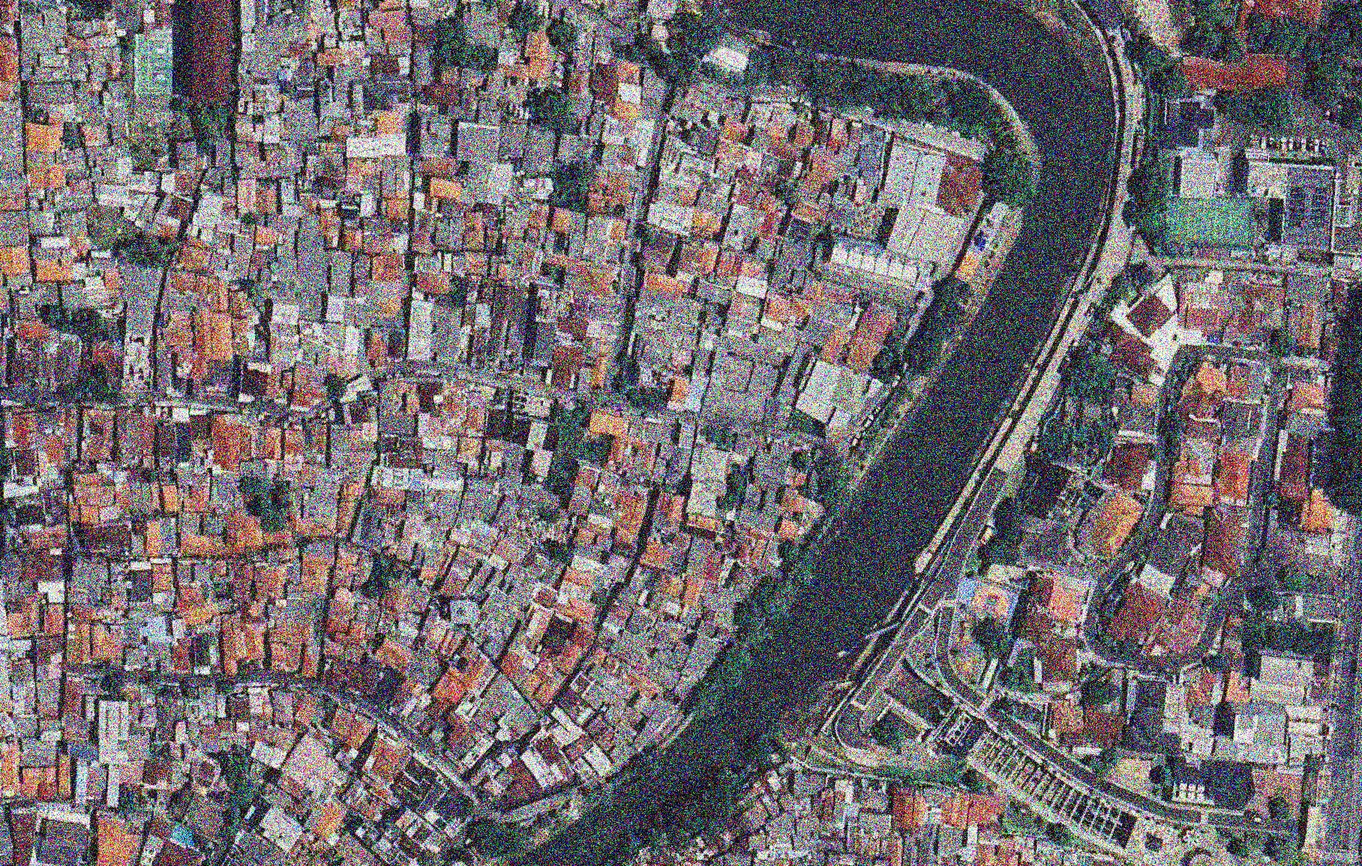building: (929, 698, 1150, 857), (1112, 269, 1214, 370), (1135, 502, 1208, 593), (1071, 480, 1149, 564), (1096, 323, 1178, 390), (655, 136, 741, 199), (1122, 668, 1184, 752), (1280, 155, 1336, 248), (1167, 755, 1258, 812), (885, 197, 962, 264), (825, 232, 922, 285), (1171, 357, 1240, 431), (1105, 576, 1173, 650), (1099, 428, 1170, 498), (1013, 518, 1097, 577), (188, 0, 235, 104), (374, 801, 453, 862), (1263, 522, 1347, 579), (880, 137, 948, 207), (1146, 597, 1209, 668), (29, 800, 94, 866), (349, 724, 414, 790), (1201, 501, 1251, 580), (114, 263, 163, 338), (384, 752, 445, 812), (1017, 454, 1072, 519), (246, 797, 306, 852), (1179, 280, 1231, 343), (370, 567, 418, 634), (1113, 368, 1161, 434), (936, 154, 986, 217), (459, 279, 494, 369), (416, 606, 472, 662), (1158, 97, 1216, 150), (1223, 701, 1291, 746), (319, 655, 385, 701), (277, 729, 330, 786), (1176, 667, 1226, 727), (480, 577, 534, 631), (319, 699, 374, 752), (173, 788, 229, 840), (772, 337, 816, 403), (719, 329, 789, 369), (296, 232, 328, 319), (453, 156, 497, 219), (684, 78, 748, 121), (91, 810, 141, 865), (298, 465, 343, 526), (496, 695, 545, 751), (579, 656, 638, 702), (1238, 281, 1288, 335), (339, 778, 393, 828), (702, 384, 767, 425), (17, 3, 68, 55), (444, 638, 494, 691), (461, 611, 514, 661), (503, 285, 536, 365), (626, 333, 693, 372), (830, 367, 882, 417), (439, 546, 483, 603), (15, 338, 59, 395), (302, 795, 352, 845), (1172, 436, 1221, 487), (511, 600, 557, 654), (120, 408, 162, 467), (721, 201, 767, 254), (188, 354, 243, 398), (1214, 446, 1255, 504), (794, 391, 854, 430), (450, 511, 502, 556), (95, 696, 129, 764), (537, 704, 585, 752), (1035, 639, 1081, 689), (38, 338, 82, 390), (123, 192, 171, 239), (337, 374, 380, 426), (1178, 55, 1240, 91), (134, 812, 175, 866), (1220, 400, 1266, 448), (1241, 154, 1289, 200), (325, 57, 371, 105), (406, 771, 451, 820), (349, 501, 391, 553), (1272, 591, 1338, 624), (332, 473, 365, 539), (563, 460, 601, 517), (1047, 576, 1093, 623), (1173, 151, 1221, 196), (799, 354, 844, 402), (150, 830, 211, 865), (77, 406, 115, 462), (234, 677, 280, 723), (494, 641, 539, 688), (239, 25, 305, 57), (506, 414, 563, 451), (560, 261, 618, 297), (253, 550, 293, 602), (232, 827, 285, 866), (619, 432, 662, 480), (526, 668, 569, 716), (682, 635, 724, 684), (6, 803, 39, 865), (35, 638, 63, 711), (1254, 652, 1314, 686), (1274, 431, 1314, 482), (588, 470, 624, 526), (463, 559, 505, 607), (612, 480, 650, 533), (209, 411, 242, 472), (352, 76, 411, 110), (404, 646, 448, 691), (430, 303, 463, 363), (266, 136, 310, 181), (196, 310, 234, 362), (372, 633, 419, 675), (518, 319, 556, 370), (478, 671, 522, 715), (856, 299, 899, 344), (690, 436, 731, 483), (365, 828, 415, 866), (738, 486, 781, 530), (184, 751, 227, 795), (1015, 605, 1057, 650), (1083, 702, 1123, 749), (686, 538, 726, 585), (6, 282, 58, 318), (71, 40, 119, 79), (406, 297, 435, 361), (344, 131, 408, 160), (1308, 489, 1351, 532), (419, 487, 462, 530), (459, 483, 504, 524), (522, 123, 558, 174), (763, 290, 812, 327), (456, 120, 500, 161), (1240, 53, 1290, 89), (366, 665, 406, 710), (218, 613, 246, 677), (546, 343, 584, 390), (583, 293, 621, 340), (0, 449, 38, 496), (1047, 697, 1084, 745), (75, 522, 132, 553), (429, 785, 471, 827), (746, 452, 789, 493), (519, 747, 559, 791), (600, 115, 655, 147), (698, 581, 748, 616), (114, 408, 144, 466), (741, 779, 781, 822), (462, 2, 501, 46), (581, 212, 614, 264), (646, 198, 695, 233), (640, 228, 678, 273), (38, 431, 68, 488), (589, 172, 635, 209), (1285, 380, 1332, 416), (0, 401, 36, 448), (1228, 361, 1269, 402), (196, 135, 237, 176), (388, 608, 430, 648), (711, 351, 754, 390), (632, 67, 671, 110), (121, 337, 152, 391), (854, 126, 888, 175), (18, 51, 70, 83), (63, 604, 91, 663), (627, 410, 677, 443), (80, 125, 135, 155), (844, 334, 885, 374), (555, 688, 596, 728), (723, 292, 762, 334), (184, 684, 223, 726), (78, 269, 116, 312), (599, 139, 650, 171), (297, 319, 345, 353), (1248, 677, 1306, 705), (432, 708, 472, 748), (189, 188, 226, 231), (756, 318, 800, 354), (92, 463, 128, 507), (367, 7, 411, 43), (1086, 0, 1130, 36), (438, 383, 469, 434), (392, 512, 423, 563), (770, 261, 815, 296), (652, 488, 687, 533), (467, 766, 507, 805), (686, 112, 724, 153), (506, 759, 544, 800), (417, 113, 453, 156), (810, 293, 855, 327), (270, 591, 321, 621), (527, 728, 565, 768), (383, 686, 421, 726), (686, 480, 727, 517), (147, 476, 183, 518), (738, 525, 773, 568), (207, 246, 250, 281), (334, 293, 377, 328), (553, 591, 600, 623), (236, 360, 270, 404), (267, 247, 301, 291), (672, 236, 705, 281), (250, 0, 307, 26), (801, 156, 842, 192), (258, 363, 294, 404), (331, 830, 372, 866), (71, 761, 106, 803), (19, 549, 63, 582), (642, 656, 683, 691), (246, 735, 287, 770), (207, 469, 241, 511), (1167, 483, 1213, 514), (202, 724, 248, 755), (1220, 614, 1245, 671), (50, 752, 79, 801), (233, 86, 282, 115), (170, 241, 213, 274), (703, 42, 750, 72), (712, 520, 749, 558), (729, 796, 765, 835), (371, 463, 423, 490), (314, 348, 359, 379), (153, 188, 194, 222), (543, 611, 576, 653), (380, 434, 422, 467), (0, 347, 33, 389), (238, 47, 280, 80), (413, 153, 462, 181), (189, 267, 226, 304), (597, 554, 633, 592), (264, 299, 300, 337), (299, 771, 338, 806), (762, 150, 806, 181), (525, 445, 556, 489), (968, 792, 1008, 826), (589, 404, 630, 437), (0, 139, 26, 191), (10, 659, 35, 713), (142, 756, 184, 788), (20, 523, 68, 551), (914, 783, 943, 829), (162, 638, 199, 674), (156, 357, 191, 395), (937, 825, 976, 859), (764, 810, 803, 844), (1256, 0, 1319, 21), (730, 166, 763, 206), (154, 696, 184, 740), (822, 323, 854, 364), (683, 510, 724, 542), (589, 62, 621, 103), (68, 556, 109, 588), (589, 338, 612, 395), (426, 539, 457, 581), (824, 193, 860, 229), (461, 733, 497, 769), (296, 559, 332, 595), (550, 638, 585, 675), (266, 639, 303, 674), (156, 311, 193, 346), (346, 816, 383, 851), (409, 536, 443, 574), (1297, 302, 1325, 348), (289, 510, 335, 538), (504, 563, 543, 596), (18, 767, 57, 800), (530, 285, 563, 324), (1027, 570, 1059, 610), (81, 342, 121, 374), (485, 161, 514, 205), (234, 66, 285, 91), (178, 533, 227, 559), (497, 117, 528, 158), (268, 617, 315, 644), (638, 536, 674, 571), (430, 673, 466, 708), (650, 618, 687, 652), (309, 750, 346, 784), (169, 136, 202, 174), (643, 271, 695, 295), (627, 669, 666, 701), (232, 140, 264, 179), (34, 406, 77, 435), (324, 423, 351, 469), (279, 842, 333, 865), (18, 737, 58, 768), (23, 121, 63, 152), (227, 559, 255, 603), (90, 621, 120, 662), (767, 745, 802, 780), (709, 815, 745, 849), (321, 116, 355, 152), (37, 489, 70, 526), (631, 305, 669, 337), (126, 559, 153, 604), (0, 744, 22, 799), (230, 315, 258, 358), (1275, 494, 1310, 528), (70, 468, 104, 503), (316, 102, 351, 136), (174, 438, 210, 471), (281, 424, 303, 478), (192, 308, 214, 362), (22, 99, 76, 121), (748, 361, 780, 398), (470, 660, 502, 697), (346, 278, 405, 298), (1178, 725, 1217, 755), (277, 91, 316, 121), (89, 153, 132, 180), (757, 765, 790, 800), (800, 316, 835, 349), (666, 310, 699, 345), (567, 616, 600, 651), (490, 495, 522, 531), (302, 418, 327, 464), (327, 249, 352, 295), (335, 617, 372, 648), (115, 731, 152, 762), (483, 255, 520, 286), (130, 683, 156, 727), (667, 95, 705, 125), (10, 598, 40, 636), (177, 601, 219, 628), (315, 207, 342, 249), (1064, 396, 1103, 425), (494, 31, 519, 76), (761, 397, 794, 431), (472, 701, 506, 734), (632, 363, 672, 391), (452, 689, 484, 724), (447, 86, 479, 121), (684, 372, 710, 415), (119, 187, 150, 223), (74, 103, 127, 124), (380, 160, 410, 197), (692, 278, 733, 305), (603, 217, 627, 263), (150, 346, 173, 394), (26, 81, 74, 104), (252, 209, 300, 232), (776, 238, 814, 267), (584, 681, 617, 714), (327, 587, 360, 620), (520, 546, 553, 579), (625, 607, 659, 639), (350, 598, 384, 630), (108, 0, 143, 31), (158, 288, 205, 311), (405, 581, 435, 617), (292, 691, 319, 731), (490, 282, 517, 322), (157, 170, 200, 195), (772, 131, 809, 160), (1224, 269, 1250, 310), (667, 444, 693, 485), (34, 256, 75, 282), (266, 334, 298, 367), (570, 543, 604, 574), (147, 211, 181, 242), (296, 538, 335, 565), (492, 537, 527, 567), (371, 107, 406, 137), (238, 512, 264, 552), (305, 154, 345, 180), (942, 789, 970, 826), (814, 277, 851, 305), (366, 326, 389, 371), (1281, 411, 1324, 435), (189, 632, 213, 675), (26, 188, 69, 212), (1288, 276, 1326, 303), (241, 621, 266, 662), (269, 722, 300, 755), (140, 0, 173, 31), (835, 172, 869, 202), (1184, 415, 1223, 441), (638, 286, 680, 310), (464, 209, 489, 249), (270, 687, 295, 727), (695, 190, 732, 217), (289, 383, 326, 410), (731, 563, 762, 595), (346, 442, 377, 474), (720, 117, 753, 147), (626, 559, 656, 592), (238, 417, 261, 460), (745, 96, 774, 130), (610, 94, 644, 123), (834, 778, 858, 819), (60, 675, 84, 716), (714, 137, 749, 165), (148, 558, 176, 593), (0, 210, 28, 245), (370, 252, 405, 280), (26, 163, 65, 188), (665, 374, 691, 411), (559, 575, 596, 601), (245, 720, 282, 746), (55, 186, 92, 212), (592, 720, 623, 751), (652, 443, 676, 483), (563, 732, 595, 762), (793, 769, 826, 798), (690, 209, 723, 238), (211, 203, 240, 236), (502, 201, 530, 235), (182, 220, 216, 248), (1328, 276, 1353, 314), (608, 640, 643, 667), (423, 435, 458, 462), (118, 679, 142, 718), (259, 783, 295, 809), (584, 745, 614, 776), (101, 558, 131, 589), (195, 509, 226, 539), (860, 779, 889, 811), (831, 144, 860, 176), (496, 466, 525, 498), (567, 69, 596, 101), (555, 129, 580, 166), (893, 784, 914, 828), (779, 485, 812, 513), (177, 484, 210, 512), (755, 189, 789, 216), (246, 249, 273, 283), (732, 255, 770, 279), (297, 641, 321, 679), (677, 295, 720, 316), (261, 417, 282, 460), (1235, 0, 1253, 50), (785, 213, 815, 243), (768, 103, 800, 131), (602, 694, 630, 726), (174, 583, 206, 611), (347, 421, 379, 449), (501, 527, 534, 554), (142, 638, 169, 671), (92, 181, 129, 205), (343, 171, 380, 195), (735, 272, 769, 298), (486, 318, 507, 360), (378, 410, 416, 433), (609, 731, 638, 761), (142, 614, 172, 643), (0, 245, 30, 274), (57, 209, 88, 237), (1226, 671, 1253, 703), (1322, 312, 1340, 360), (793, 198, 829, 222), (333, 541, 360, 573), (558, 290, 590, 317), (76, 121, 108, 148), (414, 43, 435, 84), (521, 244, 543, 283), (0, 101, 22, 140), (40, 603, 65, 637), (597, 0, 631, 25), (679, 575, 706, 606), (827, 115, 849, 153), (280, 113, 312, 139), (484, 407, 509, 440), (165, 341, 198, 366), (253, 180, 278, 213), (290, 58, 315, 91), (173, 421, 192, 464), (416, 269, 450, 293), (607, 434, 629, 471), (147, 584, 176, 612), (557, 315, 588, 341), (60, 715, 91, 741), (335, 38, 366, 64), (0, 579, 35, 602), (124, 598, 156, 623), (466, 392, 485, 434), (156, 422, 175, 464), (418, 383, 442, 416), (67, 582, 103, 604), (13, 502, 46, 526), (569, 670, 597, 698), (569, 756, 597, 784), (58, 281, 86, 309), (429, 177, 463, 200), (541, 557, 567, 587), (371, 54, 410, 74), (26, 209, 56, 235), (370, 485, 407, 506), (249, 565, 270, 602), (448, 597, 479, 622), (102, 764, 120, 807), (260, 142, 282, 177), (621, 630, 653, 654), (609, 539, 641, 563), (590, 34, 614, 66), (0, 806, 13, 865), (479, 90, 502, 123), (292, 363, 325, 386), (796, 185, 832, 206), (672, 671, 699, 699), (502, 781, 530, 808), (122, 171, 158, 192), (517, 671, 543, 700), (120, 642, 146, 671), (95, 498, 124, 524), (697, 241, 722, 271), (564, 565, 598, 587), (53, 146, 87, 168), (235, 178, 257, 212), (158, 517, 177, 556), (810, 110, 830, 147), (424, 473, 465, 491), (16, 319, 48, 342), (277, 178, 298, 213), (0, 650, 12, 711), (494, 742, 521, 769), (612, 718, 640, 744), (485, 550, 513, 576), (480, 437, 506, 465), (322, 294, 348, 322), (717, 554, 739, 587), (759, 211, 783, 241), (579, 517, 615, 537), (380, 196, 410, 220), (426, 84, 460, 105), (812, 785, 834, 817), (917, 828, 936, 865), (749, 127, 776, 153), (584, 712, 610, 739), (533, 583, 560, 609), (219, 847, 258, 865), (643, 0, 678, 20), (632, 724, 657, 752), (402, 705, 427, 733), (220, 507, 248, 532), (63, 160, 91, 185), (345, 156, 380, 176), (669, 642, 693, 671), (8, 713, 37, 737), (101, 267, 122, 300), (528, 199, 551, 229), (69, 501, 99, 524), (188, 413, 211, 443), (272, 228, 295, 258), (387, 328, 406, 364), (129, 519, 147, 557), (523, 177, 554, 199), (166, 270, 197, 292), (1037, 837, 1063, 863), (550, 757, 576, 783), (645, 707, 670, 734), (525, 31, 550, 58), (715, 247, 739, 275), (679, 599, 703, 627), (402, 675, 430, 699), (117, 760, 145, 784), (221, 526, 245, 554), (72, 83, 100, 107), (274, 776, 306, 797), (997, 835, 1020, 864), (99, 586, 128, 609), (128, 480, 148, 513), (619, 705, 645, 730), (253, 226, 279, 251), (659, 573, 686, 597), (173, 466, 209, 484), (568, 366, 592, 393), (30, 241, 66, 259), (229, 229, 253, 256), (194, 167, 221, 191), (793, 120, 816, 148), (666, 546, 689, 574), (497, 238, 525, 261), (104, 79, 127, 107), (341, 323, 361, 355), (875, 189, 904, 211), (228, 693, 250, 722), (0, 550, 22, 579), (353, 555, 374, 585), (229, 288, 250, 318), (846, 822, 865, 855), (0, 50, 19, 83), (0, 0, 19, 33), (632, 694, 657, 719), (35, 717, 60, 742), (566, 46, 592, 70), (463, 251, 490, 274), (337, 10, 360, 37), (67, 740, 98, 760), (26, 146, 57, 166), (550, 205, 572, 233), (37, 581, 65, 603), (208, 282, 229, 311), (87, 606, 125, 622), (144, 518, 160, 556), (774, 516, 799, 540), (677, 418, 697, 448), (452, 735, 476, 760), (443, 251, 467, 276), (241, 601, 266, 625), (541, 253, 581, 268), (652, 693, 678, 716), (456, 438, 482, 461), (176, 511, 202, 534), (1286, 306, 1303, 341), (448, 216, 466, 249), (460, 67, 487, 89), (465, 474, 496, 493), (362, 234, 393, 253), (1288, 719, 1320, 737), (618, 60, 642, 84), (339, 228, 363, 252), (743, 148, 766, 173), (654, 181, 679, 204), (618, 583, 643, 606), (297, 209, 320, 234), (297, 21, 320, 46), (173, 558, 195, 584), (427, 463, 460, 480), (240, 0, 257, 33), (1191, 244, 1231, 258), (795, 815, 823, 835), (239, 458, 267, 478), (67, 35, 102, 51), (1280, 481, 1311, 499), (86, 254, 117, 272), (262, 113, 280, 144), (753, 236, 777, 259), (532, 659, 556, 682), (316, 185, 339, 209), (1288, 729, 1307, 758), (262, 529, 291, 548), (571, 526, 596, 548), (337, 202, 359, 227), (769, 441, 795, 462), (599, 621, 625, 642), (412, 228, 433, 254), (351, 253, 372, 279), (285, 556, 301, 590), (692, 346, 712, 373), (86, 59, 106, 86), (414, 254, 442, 273), (433, 216, 452, 244), (697, 328, 720, 351), (735, 434, 758, 457), (587, 645, 611, 667), (0, 273, 33, 289), (605, 609, 630, 630), (617, 83, 642, 104), (189, 560, 210, 585), (96, 45, 122, 65), (365, 29, 385, 55), (379, 379, 395, 411), (0, 636, 32, 652), (391, 221, 407, 253), (676, 185, 699, 207), (647, 592, 669, 615), (414, 713, 436, 736), (120, 620, 141, 644), (1286, 706, 1319, 721), (859, 812, 892, 827), (821, 818, 847, 837), (495, 0, 514, 26), (427, 699, 449, 721), (729, 836, 752, 857), (32, 235, 69, 248), (1020, 835, 1036, 865), (973, 845, 997, 865), (610, 599, 634, 619), (208, 558, 228, 582), (363, 217, 391, 234), (823, 425, 848, 444), (325, 613, 350, 632), (614, 527, 639, 546), (414, 25, 439, 44), (0, 192, 26, 210), (295, 193, 321, 211), (761, 172, 783, 193), (702, 311, 724, 332), (602, 653, 623, 675), (414, 210, 435, 232), (650, 22, 673, 42), (978, 823, 1002, 842), (694, 834, 713, 858), (593, 534, 617, 553), (316, 47, 340, 66), (818, 834, 846, 850), (847, 120, 863, 148), (405, 382, 419, 414), (495, 768, 516, 789), (332, 569, 353, 590), (593, 630, 615, 650), (528, 57, 548, 79), (404, 491, 424, 513), (67, 234, 87, 256), (234, 116, 254, 138), (323, 640, 346, 659), (1332, 255, 1361, 270), (1064, 849, 1093, 864), (483, 227, 501, 251), (569, 210, 587, 234), (376, 298, 403, 314), (358, 193, 376, 217), (904, 832, 917, 865), (184, 717, 201, 742), (654, 645, 675, 665), (440, 65, 461, 85), (215, 715, 235, 736), (214, 689, 228, 719), (209, 229, 230, 249), (37, 701, 59, 720), (867, 827, 883, 853), (767, 833, 793, 849), (793, 833, 817, 850), (368, 313, 402, 325), (665, 597, 685, 617), (168, 615, 184, 640), (284, 41, 309, 57), (165, 740, 184, 761), (97, 23, 116, 44), (525, 225, 547, 243), (71, 19, 94, 36), (777, 792, 797, 811), (714, 624, 734, 643), (1231, 246, 1258, 260), (702, 832, 720, 853), (698, 619, 719, 637), (725, 851, 750, 866), (890, 830, 901, 864), (345, 646, 368, 662), (171, 720, 187, 743), (0, 711, 14, 737), (748, 833, 768, 851), (616, 662, 634, 682), (608, 746, 626, 766), (635, 653, 652, 674), (0, 34, 17, 55), (395, 378, 406, 410), (1280, 244, 1299, 262), (372, 0, 406, 10), (1178, 268, 1206, 280), (796, 852, 824, 864), (483, 203, 504, 219), (0, 79, 15, 101), (1264, 242, 1282, 260), (180, 743, 199, 760), (262, 460, 279, 479), (796, 795, 812, 815), (779, 846, 808, 857), (385, 43, 411, 55), (674, 533, 692, 550), (513, 62, 530, 80), (792, 470, 808, 489), (423, 194, 439, 213), (201, 724, 220, 740), (411, 191, 426, 211), (71, 260, 86, 280), (428, 727, 445, 744), (469, 726, 487, 742), (439, 197, 455, 215), (418, 413, 430, 436), (333, 0, 359, 10), (319, 84, 329, 109), (638, 589, 651, 607), (430, 416, 441, 437), (71, 62, 87, 76), (758, 847, 776, 859), (408, 0, 429, 10), (1208, 267, 1224, 280), (235, 133, 258, 142), (706, 109, 721, 122), (704, 608, 717, 623), (856, 854, 873, 865), (754, 858, 777, 865), (840, 854, 856, 864), (71, 71, 87, 81), (827, 851, 839, 864), (874, 856, 890, 865), (777, 859, 792, 865)
tree: (897, 273, 978, 384), (679, 637, 760, 727), (673, 756, 753, 842), (928, 71, 1012, 141), (795, 48, 870, 116), (1238, 614, 1340, 659), (55, 361, 125, 426), (1094, 253, 1161, 318), (1213, 85, 1295, 138), (1055, 342, 1121, 407), (1128, 159, 1171, 255), (876, 68, 946, 126), (1301, 27, 1348, 110), (430, 24, 502, 78), (745, 38, 818, 90), (837, 62, 902, 118), (743, 568, 803, 628), (602, 745, 670, 797), (108, 226, 183, 273), (241, 472, 295, 536), (663, 7, 726, 61), (981, 149, 1039, 207), (353, 551, 406, 607), (1029, 410, 1081, 467), (219, 745, 264, 809), (526, 85, 579, 139), (1247, 14, 1310, 58), (964, 613, 1016, 665), (650, 798, 705, 846), (470, 820, 530, 864), (182, 102, 234, 152), (870, 381, 917, 435), (727, 603, 777, 653), (37, 305, 115, 337), (862, 710, 911, 759), (538, 11, 587, 60), (547, 159, 594, 210), (651, 46, 701, 90), (503, 0, 549, 46), (1331, 439, 1362, 507), (715, 462, 754, 516), (989, 495, 1029, 546), (816, 457, 850, 517), (540, 452, 582, 500), (1183, 27, 1243, 60), (1131, 37, 1176, 78), (1081, 744, 1128, 783), (700, 62, 758, 93), (781, 544, 820, 589), (1149, 64, 1190, 106), (1334, 375, 1362, 436), (1260, 325, 1301, 366), (1338, 309, 1362, 379), (527, 804, 568, 843), (571, 429, 614, 466), (1272, 559, 1311, 598), (851, 424, 888, 465), (1167, 347, 1206, 385), (869, 346, 907, 384), (1072, 417, 1112, 453), (1331, 2, 1362, 48), (621, 31, 663, 64), (1042, 819, 1078, 855), (740, 735, 776, 771), (977, 537, 1021, 566), (637, 823, 672, 858), (436, 18, 466, 57), (1191, 0, 1236, 25), (958, 766, 992, 799), (539, 535, 575, 566), (984, 122, 1021, 151), (114, 786, 145, 820), (624, 386, 666, 411), (1244, 584, 1280, 613), (236, 272, 268, 303), (998, 671, 1041, 694), (219, 802, 243, 843), (1265, 837, 1300, 865), (699, 422, 734, 450), (1082, 679, 1119, 705), (566, 395, 597, 426), (1147, 761, 1177, 793), (770, 177, 800, 207), (1164, 413, 1187, 451), (1338, 99, 1362, 135), (1119, 14, 1148, 43), (880, 328, 909, 357), (785, 411, 818, 436), (97, 671, 126, 699), (164, 679, 200, 701), (312, 693, 339, 722), (531, 502, 561, 528), (1110, 636, 1142, 658), (583, 784, 611, 809), (1076, 660, 1104, 683), (324, 375, 347, 403), (1267, 795, 1291, 821), (1095, 597, 1119, 623), (615, 837, 639, 863), (1199, 653, 1227, 674), (1227, 837, 1252, 860), (996, 695, 1021, 718), (791, 450, 814, 472), (1302, 754, 1326, 774), (412, 851, 446, 865), (607, 375, 628, 397), (128, 468, 161, 482), (793, 482, 817, 501), (1090, 306, 1110, 328), (0, 504, 15, 529), (214, 679, 236, 696), (1263, 492, 1279, 509), (1031, 815, 1045, 830)
